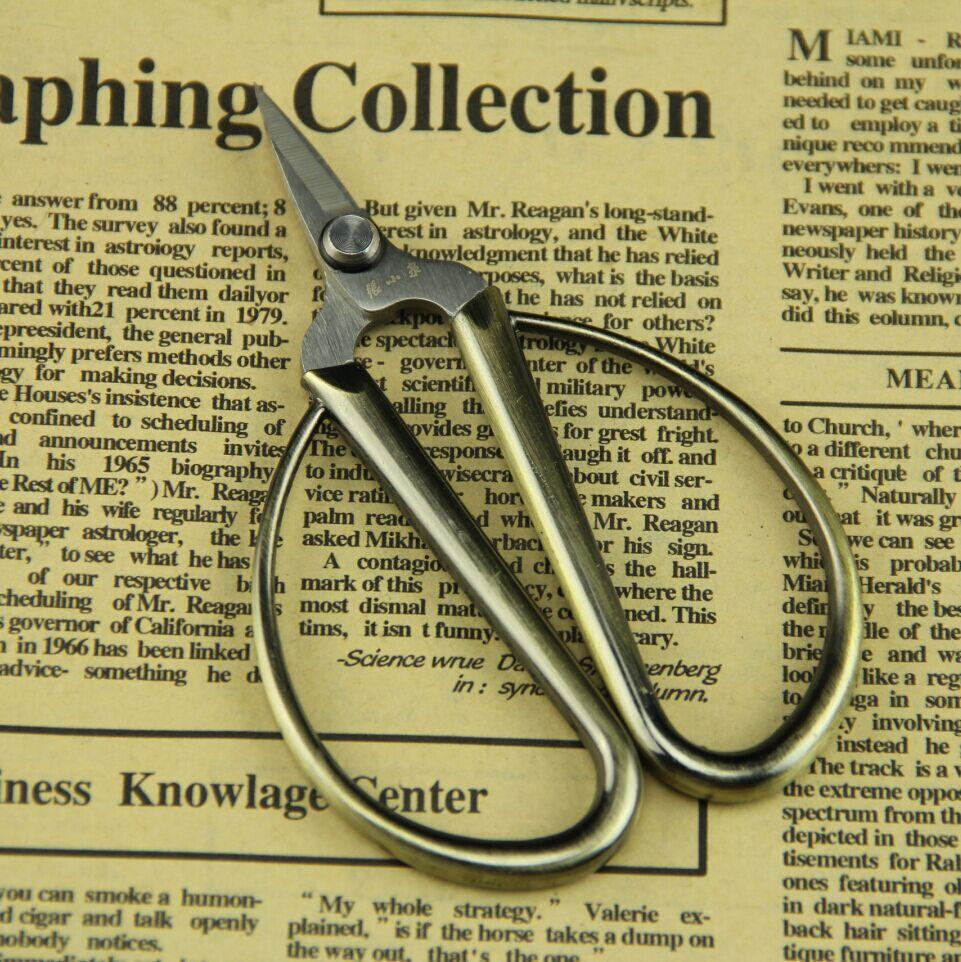scissor: (172, 78, 904, 881)
